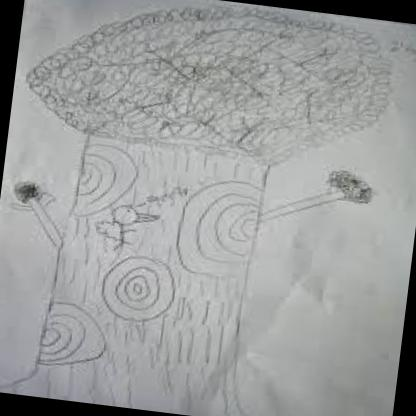bird: (95, 203, 160, 244)
crown_mushroom: (14, 0, 399, 182)
knot: (170, 174, 266, 282), (98, 252, 178, 324), (72, 142, 140, 222), (36, 300, 112, 370)
trunk_bark: (35, 158, 266, 382)
